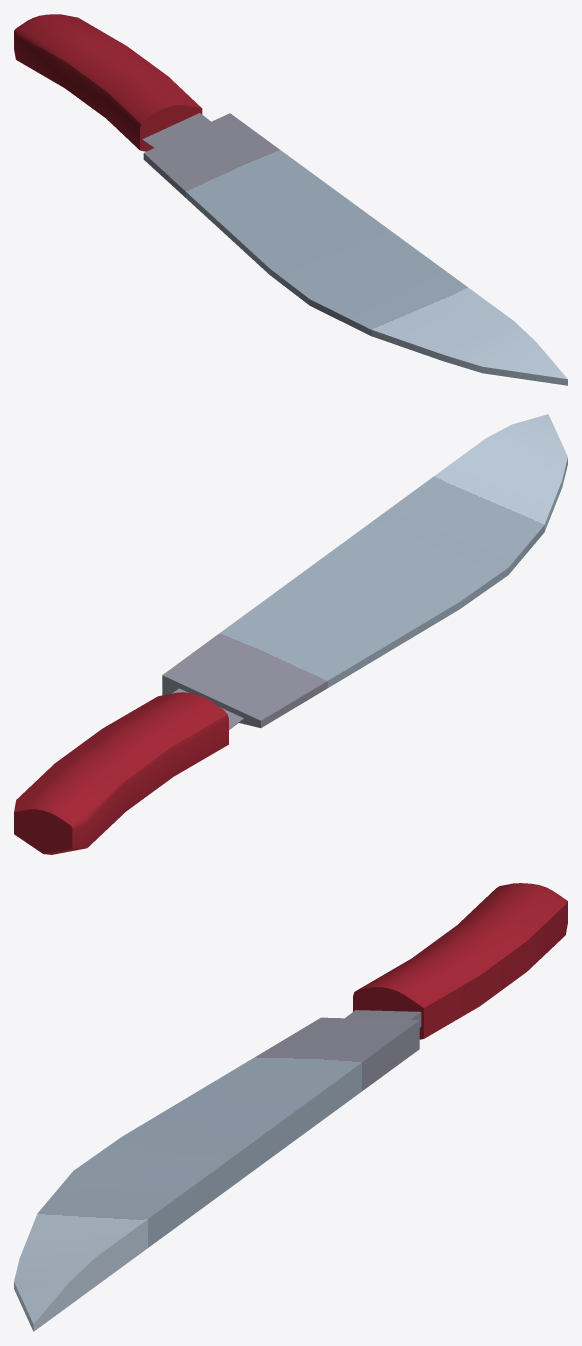
The model's file is cuchillo.fbx.
3 renders of one model, top to bottom at view 1: azimuth 30°, elevation 25°; view 2: azimuth 150°, elevation 25°; view 3: azimuth 330°, elevation 25°, orthographic. The views are drawn at different scales.
Visible parts, largest first — view 1: cuchillo; view 2: cuchillo; view 3: cuchillo.
Part boxes in pixels (x1=…): cuchillo: x1=14, y1=14, x2=567, y2=385; cuchillo: x1=14, y1=414, x2=567, y2=854; cuchillo: x1=14, y1=883, x2=567, y2=1331.
Size of the model in its own units: 11.63 by 5.01 by 87.61.
